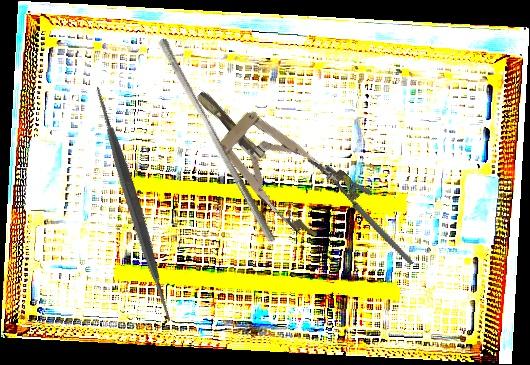Needle Holder: (305, 136, 415, 286)
Pusher: (150, 36, 285, 245)
Spatula Surgical: (1, 73, 265, 337)
Speculum: (174, 65, 365, 247)
